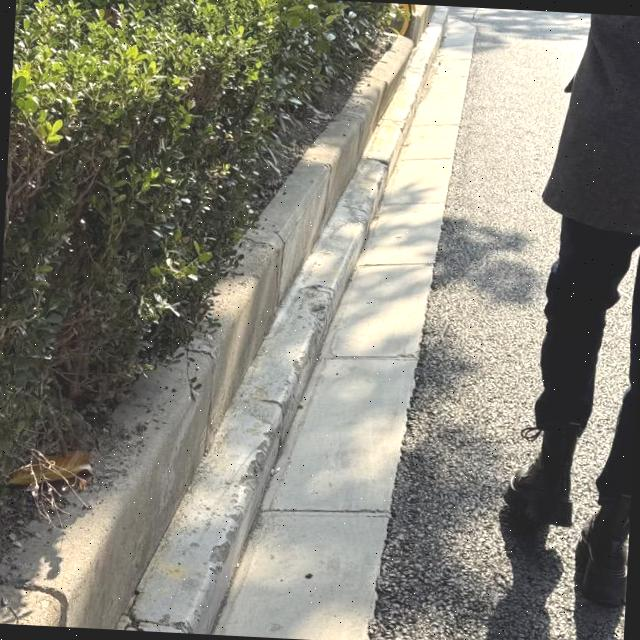curb: (0, 39, 412, 629), (125, 23, 442, 634)
